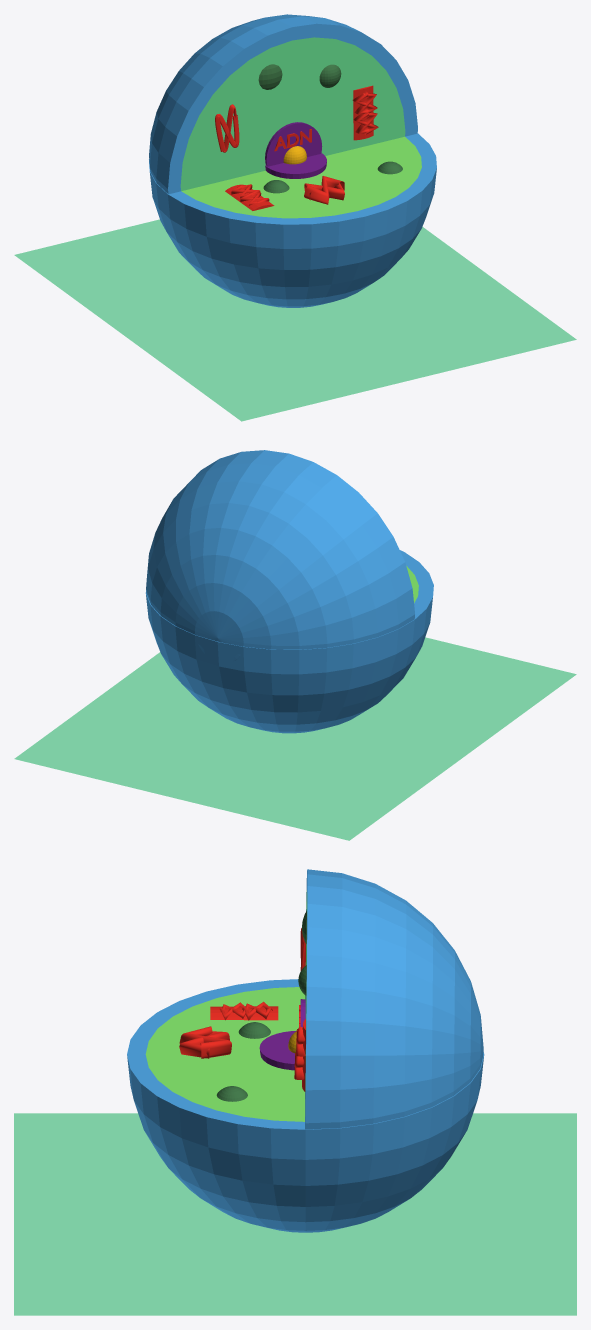
File: sin_nombre.glb
3 views of the same model, one above another, from view 1: azimuth 30°, elevation 25°; view 2: azimuth 150°, elevation 25°; view 3: azimuth 270°, elevation 25° (orthographic). The views are drawn at different scales.
Visible parts, largest first — view 1: Plano, Esfera, Esfera.001, Esfera.006, Esfera.007, Trayectoria_NURBS.002, Curva_Bezier.001, Cilindro.001; view 2: Plano, Esfera.001, Esfera; view 3: Plano, Esfera, Esfera.001, Esfera.007, Curva_Bezier.001, Cilindro.
Part boxes in pixels (x1=…): Plano: x1=14, y1=219, x2=576, y2=421; Esfera: x1=149, y1=133, x2=436, y2=307; Esfera.001: x1=149, y1=14, x2=417, y2=194; Esfera.006: x1=265, y1=122, x2=322, y2=166; Esfera.007: x1=265, y1=153, x2=326, y2=178; Trayectoria_NURBS.002: x1=215, y1=114, x2=239, y2=151; Curva_Bezier.001: x1=304, y1=176, x2=344, y2=204; Cilindro.001: x1=353, y1=85, x2=373, y2=140; Plano: x1=14, y1=637, x2=576, y2=840; Esfera.001: x1=146, y1=450, x2=414, y2=661; Esfera: x1=145, y1=550, x2=433, y2=733; Plano: x1=14, y1=1113, x2=576, y2=1315; Esfera: x1=127, y1=979, x2=484, y2=1232; Esfera.001: x1=305, y1=869, x2=483, y2=1129; Esfera.007: x1=259, y1=1031, x2=296, y2=1070; Curva_Bezier.001: x1=179, y1=1026, x2=231, y2=1058; Cilindro: x1=210, y1=1006, x2=278, y2=1020.
Bounding box in the file's own units: 0.9345 × 0.7108 × 1.1.
